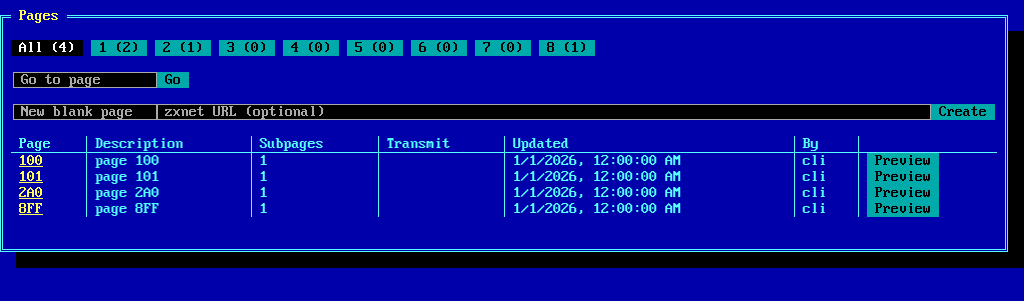
Test: create with 900 shows a message and sends nothing
Type "900" into the field named "create" at (85, 112), box [13,104,157,120]
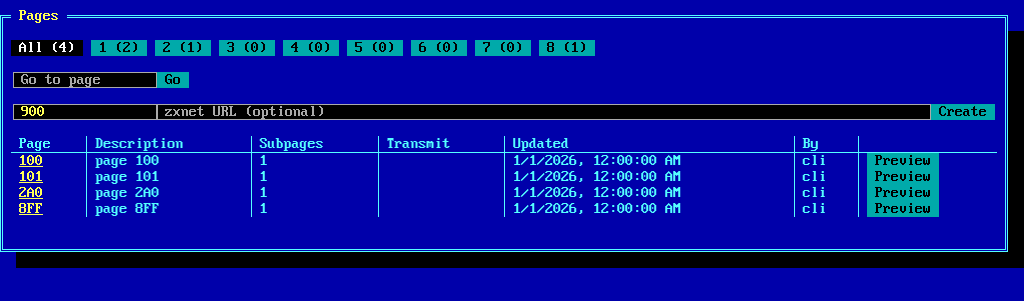
Submit the form with class "create", box [11,104,997,120]
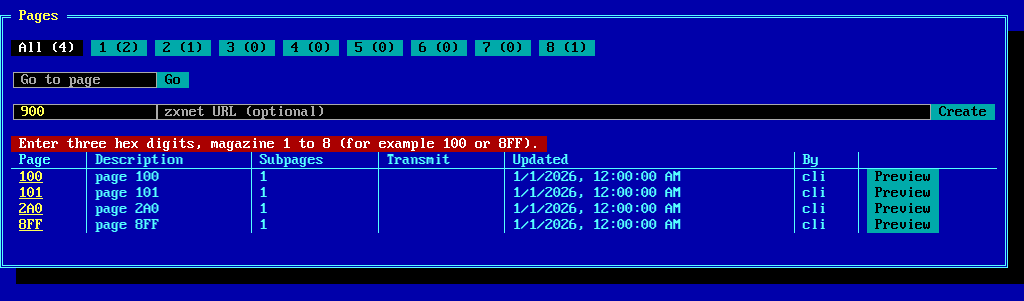
Check: the message "Enter three hex digits, magazine 1 to 8 (for example 100 or 8FF)." is shown, box [11,136,547,152]
